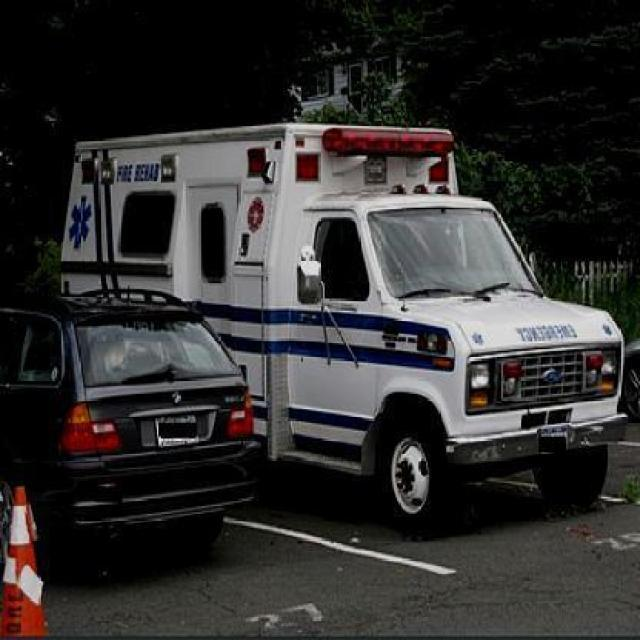emergency: (57, 120, 629, 530)
